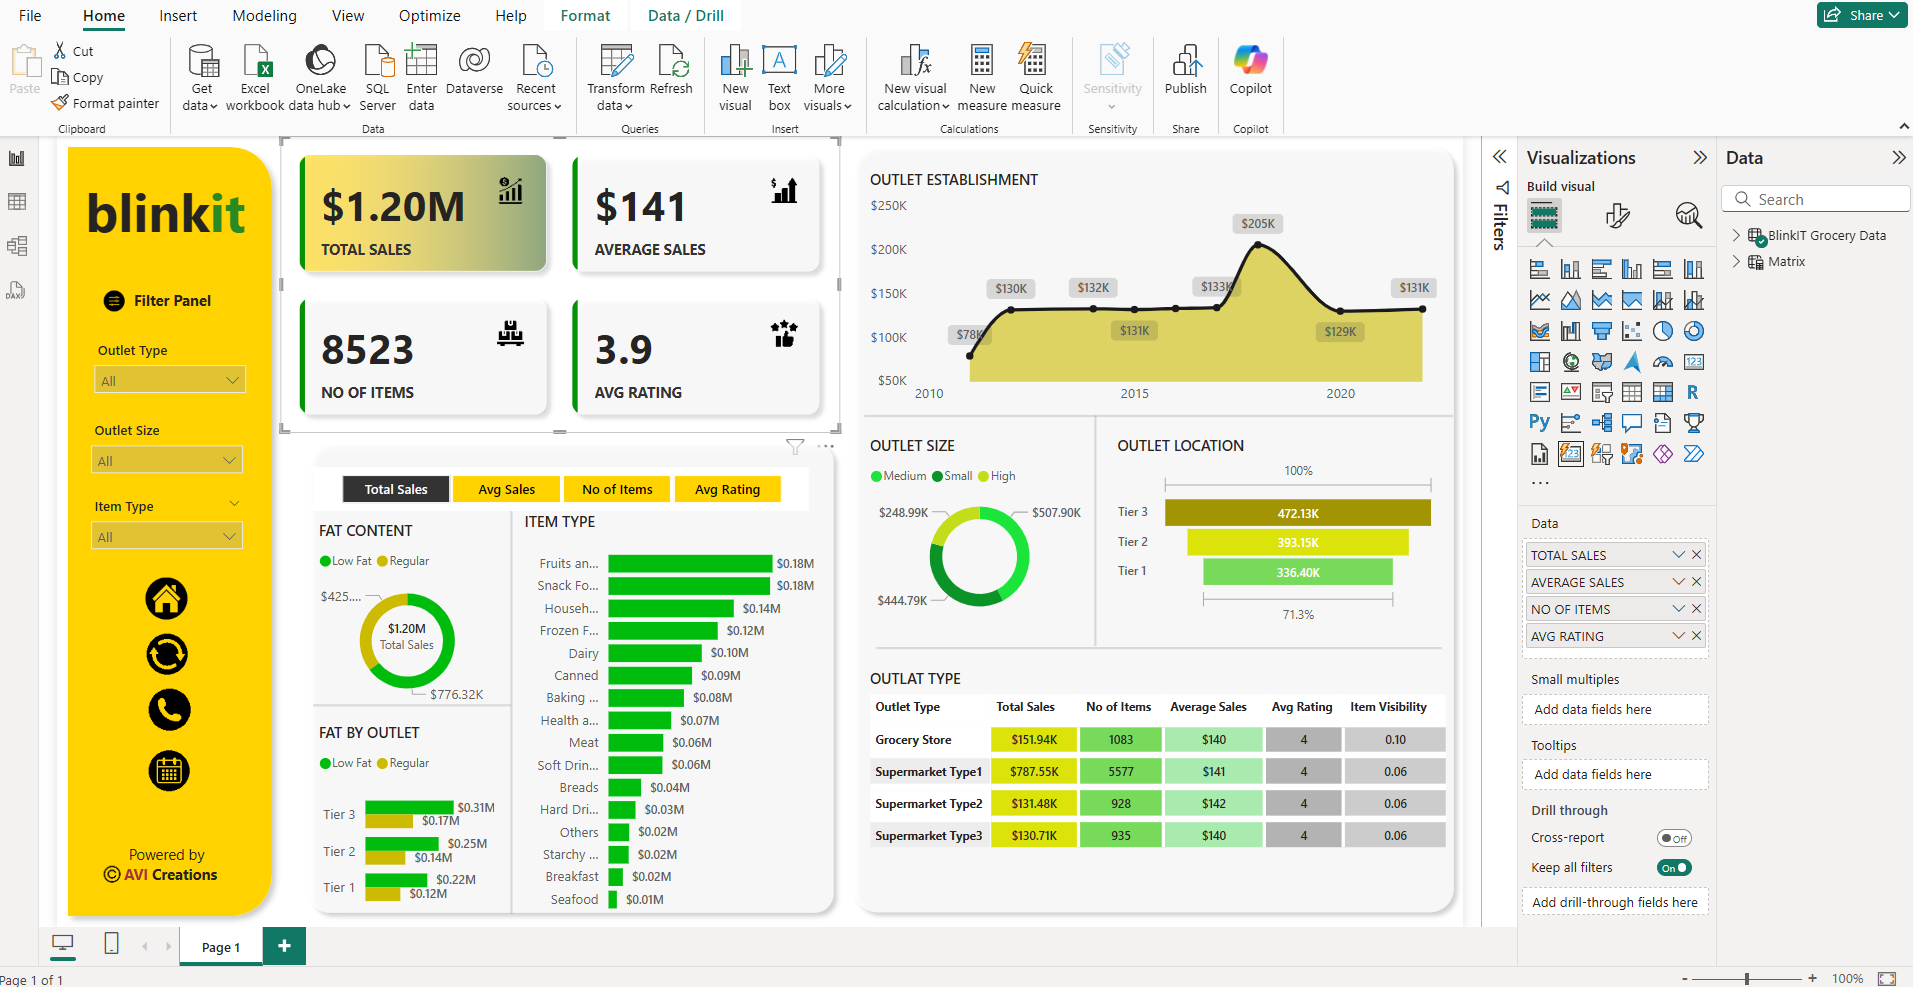

Layout of this report page (visuals, bound fields, positions):
{"tool":"powerbi","page":{"name":"Page 1","canvas":[1280,720],"ordinal":0},"visuals":[{"type":"shape","box":[0,0,205.6,720],"z":0},{"type":"textbox","box":[21,30,165.2,75.1],"z":1000},{"type":"cardVisual","fields":{"Data":["BlinkIT Grocery Data.Total Sales","BlinkIT Grocery Data.Average Sales","BlinkIT Grocery Data.No of Items","BlinkIT Grocery Data.Avg Rating"]},"box":[205.2,0,509.6,270.3],"z":2000},{"type":"shape","box":[221.1,270,494.4,445.6],"z":3000},{"type":"donutChart","title":"FAT CONTENT","fields":{"Y":["BlinkIT Grocery Data.Total Sales"],"Category":["BlinkIT Grocery Data.Item Fat Content"]},"box":[233.3,349.4,170.2,175.2],"z":4000},{"type":"slicer","fields":{"Values":["Matrix.Matrix"]},"box":[233.3,301.3,450.5,40],"z":5000},{"type":"cardVisual","fields":{"Data":["BlinkIT Grocery Data.Total Sales"]},"box":[264.4,416.7,108.9,76.7],"z":6000},{"type":"clusteredBarChart","title":"FAT BY OUTLET","fields":{"Y":["BlinkIT Grocery Data.Total Sales"],"Category":["BlinkIT Grocery Data.Outlet Location Type"],"Series":["BlinkIT Grocery Data.Item Fat Content"]},"box":[233.3,533.3,170,182.2],"z":7000},{"type":"shape","box":[233.3,502.2,180,31.1],"z":8000},{"type":"shape","box":[407.8,341.1,12.2,366.7],"z":9000},{"type":"clusteredBarChart","title":"ITEM TYPE","fields":{"Y":["BlinkIT Grocery Data.Total Sales"],"Category":["BlinkIT Grocery Data.Item Type"]},"box":[420,341.1,273.3,374.4],"z":10000},{"type":"shape","box":[715.6,0,564.4,715.6],"z":11000},{"type":"lineChart","title":"OUTLET ESTABLISHMENT","fields":{"Category":["BlinkIT Grocery Data.Outlet Establishment Year"],"Y":["BlinkIT Grocery Data.Total Sales"]},"box":[734.4,30,525.6,222.2],"z":12000},{"type":"shape","box":[734.4,238.9,535.6,31.1],"z":13000},{"type":"donutChart","title":"OUTLET SIZE","fields":{"Y":["BlinkIT Grocery Data.Total Sales"],"Category":["BlinkIT Grocery Data.Outlet Size"]},"box":[734.4,272.3,208.9,175.6],"z":14000},{"type":"shape","box":[930,254.4,30,210],"z":15000},{"type":"funnel","title":"OUTLET LOCATION","fields":{"Y":["Sum(BlinkIT Grocery Data.Sales)"],"Category":["BlinkIT Grocery Data.Outlet Location Type"]},"box":[960,272.3,300,175.6],"z":16000},{"type":"pivotTable","title":"OUTLAT TYPE","fields":{"Rows":["BlinkIT Grocery Data.Outlet Type"],"Values":["BlinkIT Grocery Data.Total Sales","BlinkIT Grocery Data.No of Items","BlinkIT Grocery Data.Average Sales","BlinkIT Grocery Data.Avg Rating","Avg(BlinkIT Grocery Data.Item Visibility)"]},"box":[734.4,484.4,535.5,190],"z":17000},{"type":"shape","box":[745.6,450,514.4,31.1],"z":18000},{"type":"slicer","fields":{"Values":["BlinkIT Grocery Data.Outlet Size"]},"box":[21.1,254.4,157.8,73.3],"z":19000},{"type":"slicer","fields":{"Values":["BlinkIT Grocery Data.Item Type"]},"box":[21.1,323.3,157.8,73.3],"z":20000},{"type":"slicer","fields":{"Values":["BlinkIT Grocery Data.Outlet Type"]},"box":[24.4,181.1,157.8,73.3],"z":21000},{"type":"textbox","box":[65.6,135.6,101.1,37.8],"z":22000},{"type":"image","box":[36.7,135.6,30,30],"z":23000},{"type":"image","box":[75.6,396.7,48.9,48.9],"z":24000},{"type":"image","box":[66.7,447.8,66.7,47.8],"z":25000},{"type":"image","box":[76.7,497.8,50,48.9],"z":26000},{"type":"image","box":[76.7,553.3,50,47.8],"z":27000},{"type":"textbox","box":[44.4,638.9,111.1,50],"z":28000},{"type":"image","box":[36.7,658.9,25.6,25.6],"z":29000}]}

Visuals, with their boxes on the page's 1280x720 design canvas (x1, y1, x2, y2). These are canvas units, not pixel positions in the 1913x987 screenshot, which may show the page scaled, cropped or inside an application window:
shape: {"left": 0, "top": 0, "right": 206, "bottom": 720}
textbox: {"left": 21, "top": 30, "right": 186, "bottom": 105}
cardVisual - BlinkIT Grocery Data.Total Sales x BlinkIT Grocery Data.Average Sales: {"left": 205, "top": 0, "right": 715, "bottom": 270}
shape: {"left": 221, "top": 270, "right": 716, "bottom": 716}
"FAT CONTENT" donutChart: {"left": 233, "top": 349, "right": 404, "bottom": 525}
slicer - Matrix.Matrix: {"left": 233, "top": 301, "right": 684, "bottom": 341}
cardVisual - BlinkIT Grocery Data.Total Sales: {"left": 264, "top": 417, "right": 373, "bottom": 493}
"FAT BY OUTLET" clusteredBarChart: {"left": 233, "top": 533, "right": 403, "bottom": 716}
shape: {"left": 233, "top": 502, "right": 413, "bottom": 533}
shape: {"left": 408, "top": 341, "right": 420, "bottom": 708}
"ITEM TYPE" clusteredBarChart: {"left": 420, "top": 341, "right": 693, "bottom": 716}
shape: {"left": 716, "top": 0, "right": 1280, "bottom": 716}
"OUTLET ESTABLISHMENT" lineChart: {"left": 734, "top": 30, "right": 1260, "bottom": 252}
shape: {"left": 734, "top": 239, "right": 1270, "bottom": 270}
"OUTLET SIZE" donutChart: {"left": 734, "top": 272, "right": 943, "bottom": 448}
shape: {"left": 930, "top": 254, "right": 960, "bottom": 464}
"OUTLET LOCATION" funnel: {"left": 960, "top": 272, "right": 1260, "bottom": 448}
"OUTLAT TYPE" pivotTable: {"left": 734, "top": 484, "right": 1270, "bottom": 674}
shape: {"left": 746, "top": 450, "right": 1260, "bottom": 481}
slicer - BlinkIT Grocery Data.Outlet Size: {"left": 21, "top": 254, "right": 179, "bottom": 328}
slicer - BlinkIT Grocery Data.Item Type: {"left": 21, "top": 323, "right": 179, "bottom": 397}
slicer - BlinkIT Grocery Data.Outlet Type: {"left": 24, "top": 181, "right": 182, "bottom": 254}
textbox: {"left": 66, "top": 136, "right": 167, "bottom": 173}
image: {"left": 37, "top": 136, "right": 67, "bottom": 166}
image: {"left": 76, "top": 397, "right": 124, "bottom": 446}
image: {"left": 67, "top": 448, "right": 133, "bottom": 496}
image: {"left": 77, "top": 498, "right": 127, "bottom": 547}
image: {"left": 77, "top": 553, "right": 127, "bottom": 601}
textbox: {"left": 44, "top": 639, "right": 156, "bottom": 689}
image: {"left": 37, "top": 659, "right": 62, "bottom": 684}
